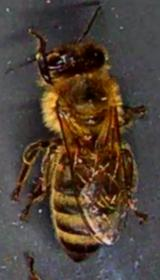varroa_mite: (72, 126, 101, 154)
